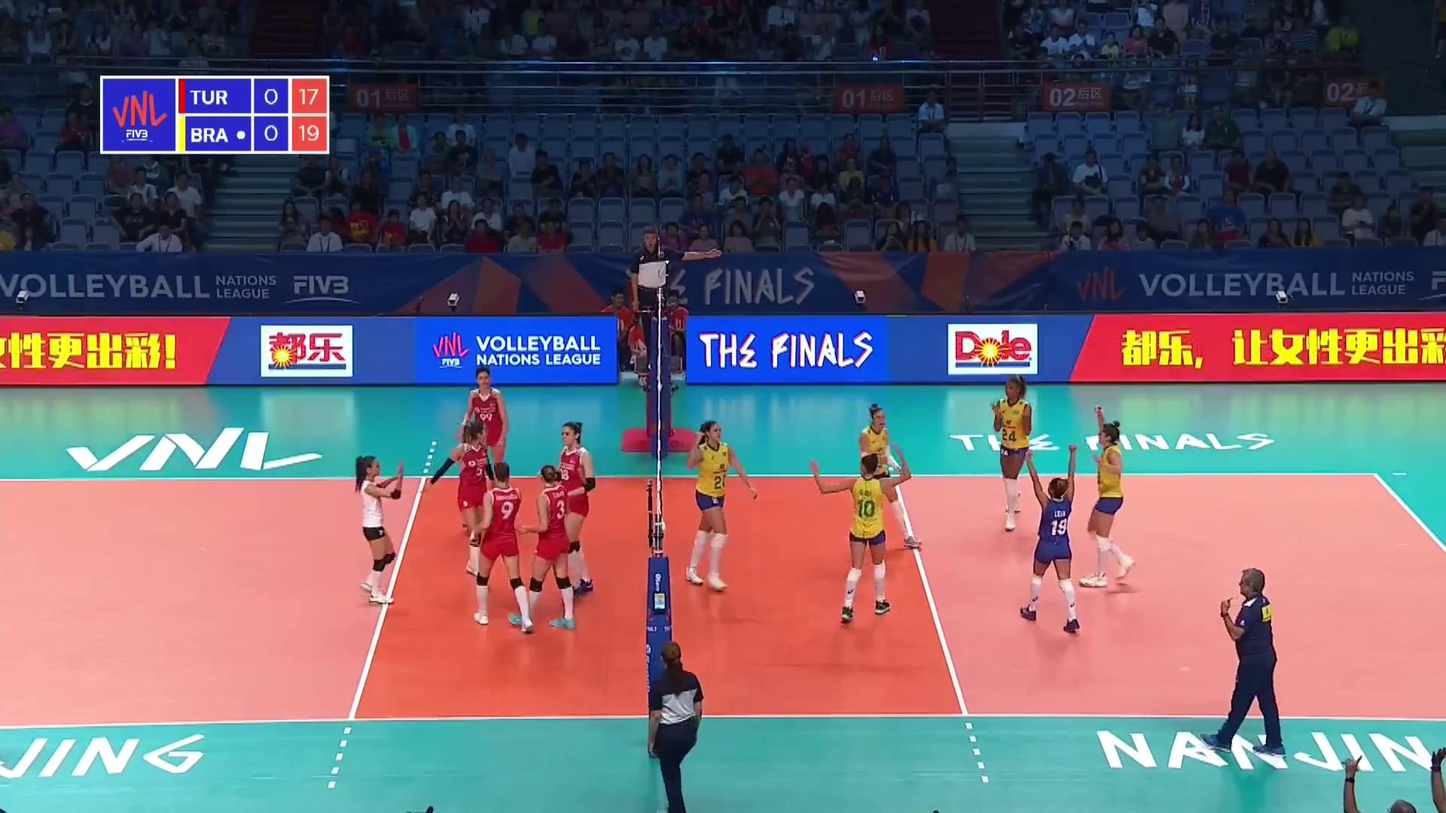player: (812, 445, 912, 625), (1022, 445, 1080, 635), (689, 421, 747, 592), (473, 463, 530, 632), (857, 408, 913, 552), (1090, 415, 1133, 592), (554, 419, 594, 593), (357, 458, 402, 609), (454, 419, 495, 580), (531, 466, 571, 629), (994, 379, 1035, 535), (467, 364, 507, 520)
refree: (647, 646, 708, 813), (633, 229, 674, 369)
